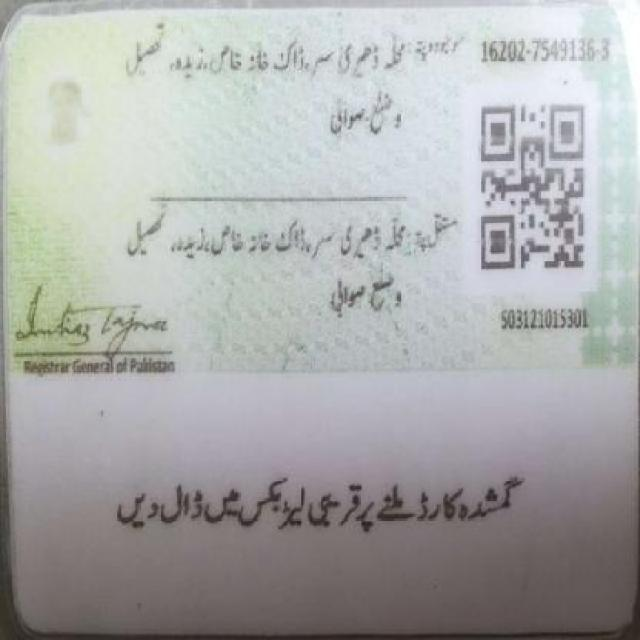Back: (11, 8, 635, 624)
